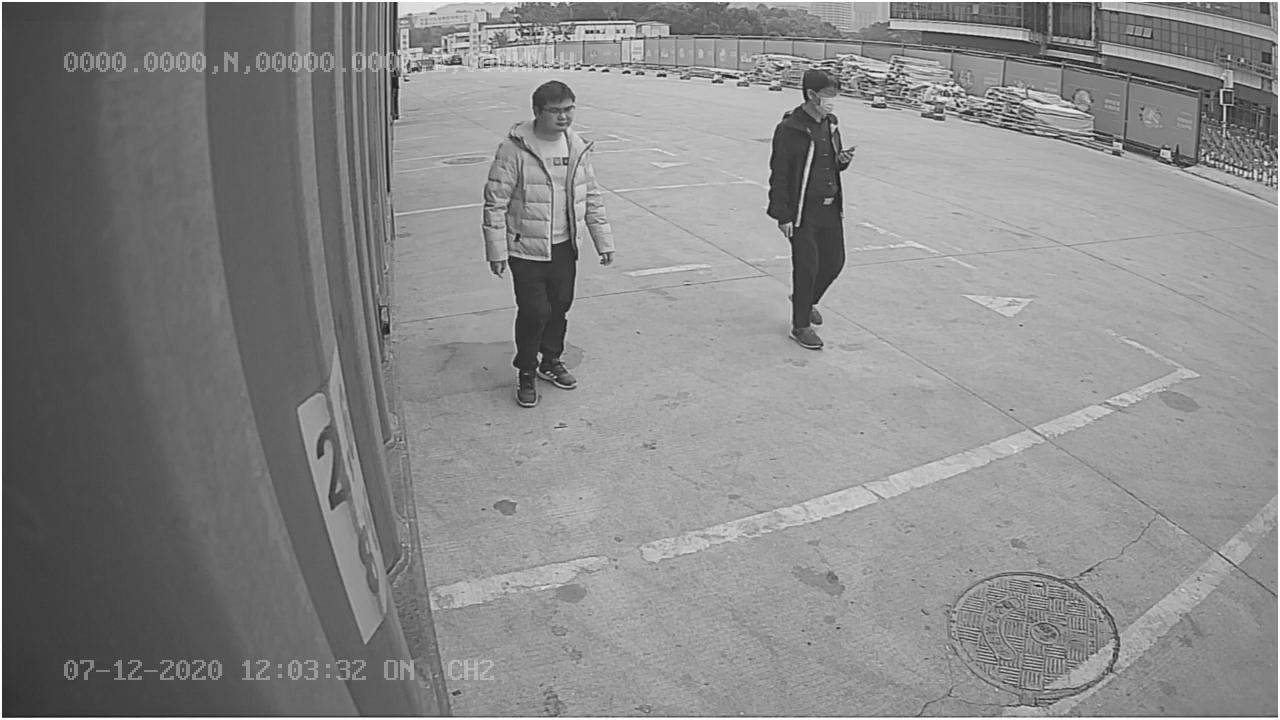person: (473, 78, 623, 411), (758, 62, 858, 358)
